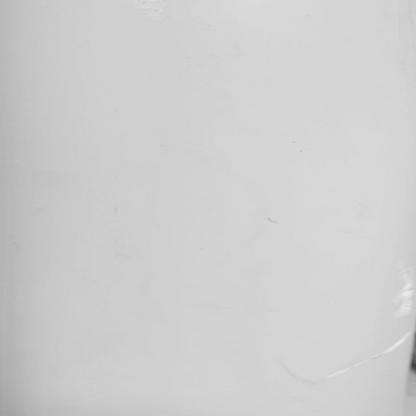sunshang: (312, 326, 416, 378), (400, 273, 414, 319)
